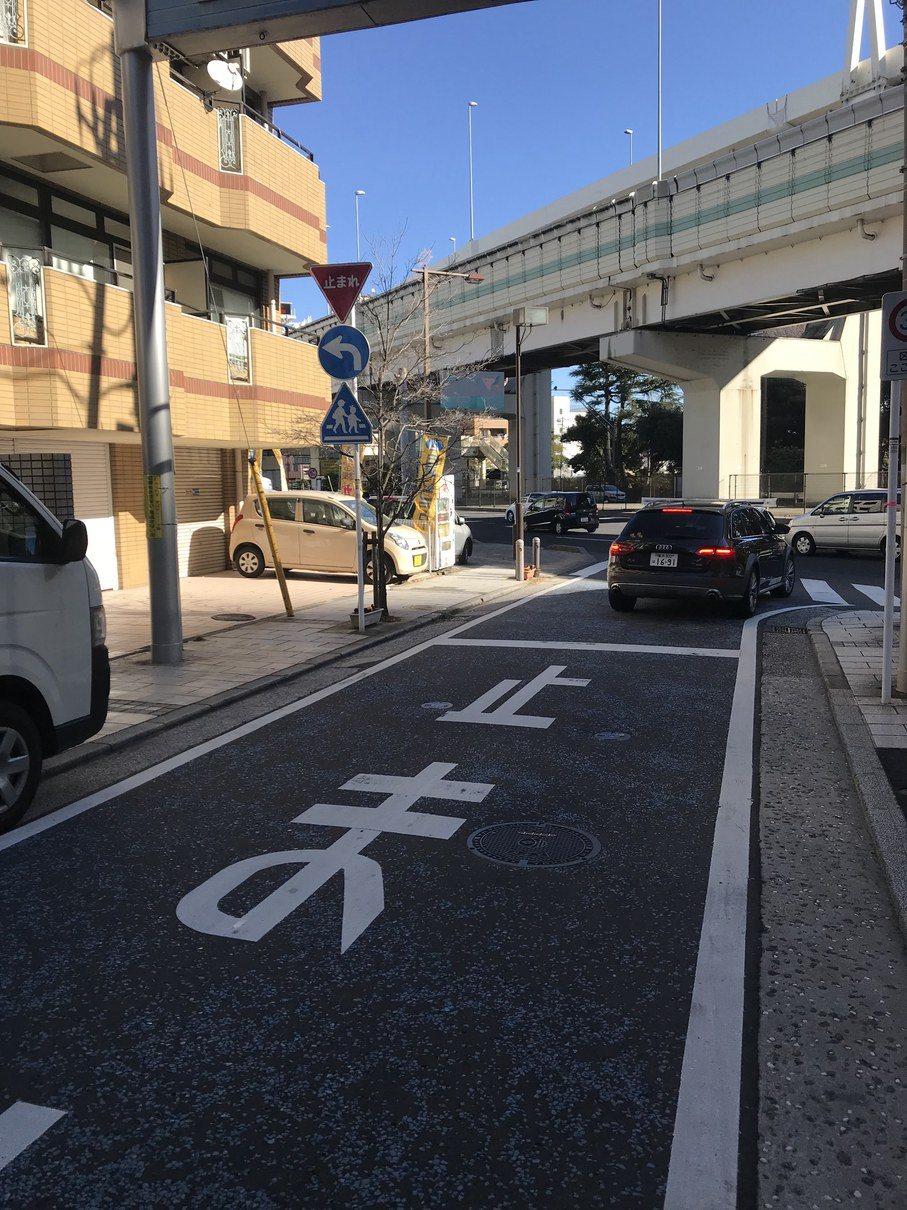stop_sign: (308, 259, 373, 323)
